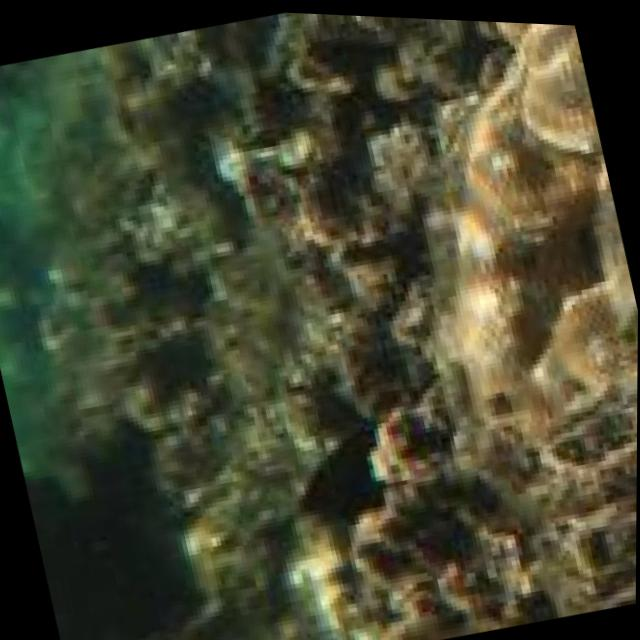Dead Coral: (28, 1, 541, 640)
